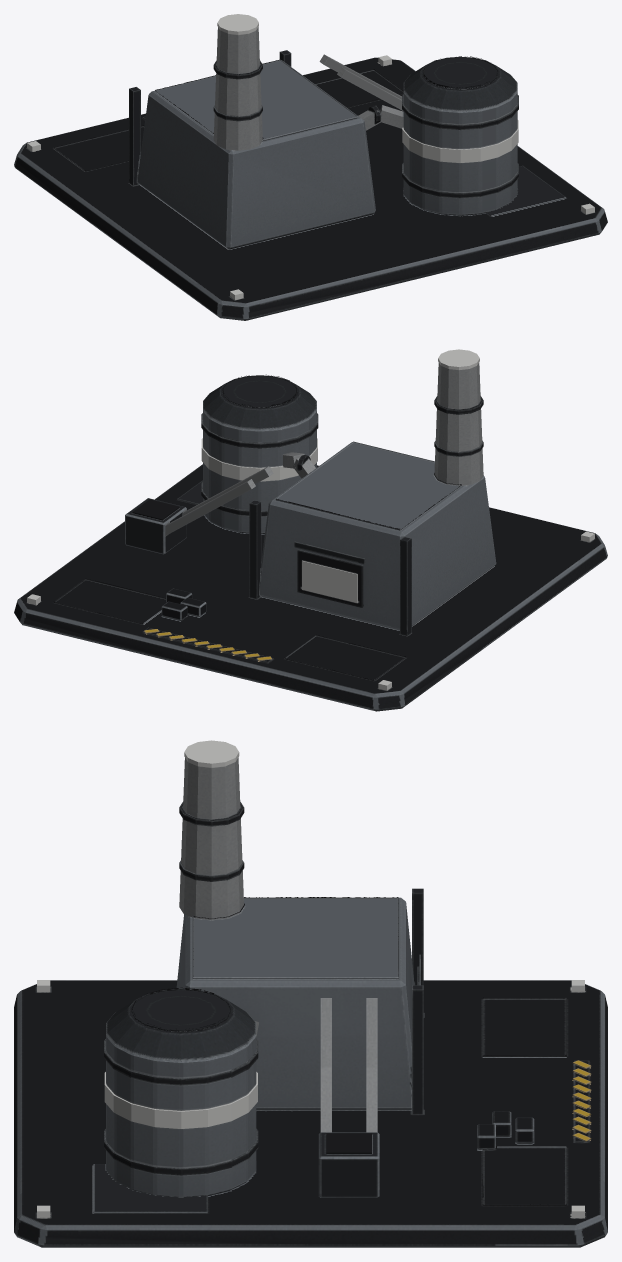
The model's file is chs_converter.fbx.
3 renders of one model, top to bottom at view 1: azimuth 30°, elevation 25°; view 2: azimuth 150°, elevation 25°; view 3: azimuth 270°, elevation 25°, orthographic. The views are drawn at different scales.
Parts seen in each view (by area): view 1: base_bar, crucible_bar, crucible_glow_power_bar, base_glow_power_bar, base_glow_running_bar; view 2: base_bar, crucible_bar, base_glow_power_bar, crucible_glow_power_bar; view 3: base_bar, crucible_bar, crucible_glow_power_bar, base_glow_power_bar, base_glow_running_bar.
Part boxes in pixels (box(x1,y1,x2,y2)): base_bar: box(14, 27, 607, 320); crucible_bar: box(402, 56, 518, 215); crucible_glow_power_bar: box(402, 120, 518, 162); base_glow_power_bar: box(217, 14, 258, 34); base_glow_running_bar: box(27, 55, 594, 300); base_bar: box(14, 362, 607, 711); crucible_bar: box(201, 374, 318, 533); base_glow_power_bar: box(302, 349, 479, 602); crucible_glow_power_bar: box(201, 438, 317, 481); base_bar: box(14, 757, 607, 1247); crucible_bar: box(104, 987, 258, 1197); crucible_glow_power_bar: box(104, 1072, 257, 1128); base_glow_power_bar: box(184, 740, 239, 767); base_glow_running_bar: box(37, 980, 584, 1218).
Bounding box in the file's own units: 1556 × 1068 × 1556.
Materials: 2 (2 with a texture image).
